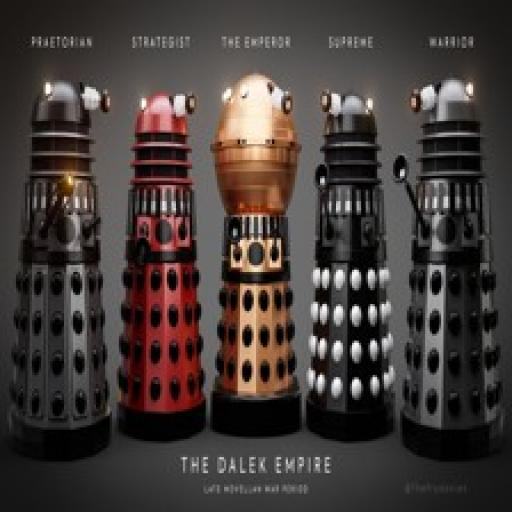dalek: (393, 74, 512, 460), (4, 73, 114, 460), (206, 71, 308, 450), (112, 80, 206, 438), (308, 83, 396, 446)
